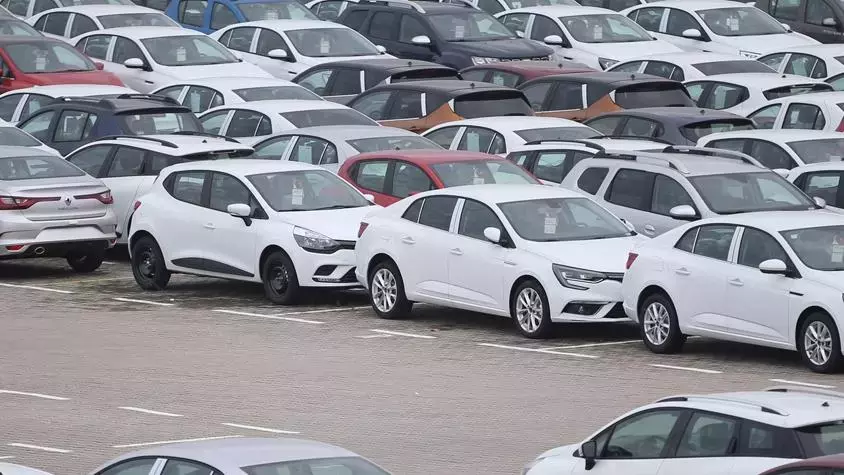Car: (356, 185, 650, 338), (127, 159, 383, 304), (623, 211, 844, 373), (522, 389, 844, 475), (558, 145, 826, 237), (66, 133, 255, 244), (338, 0, 555, 70), (0, 146, 116, 273), (67, 27, 276, 92), (493, 6, 683, 70), (16, 94, 203, 157), (619, 0, 818, 59), (338, 149, 540, 206), (89, 437, 391, 475), (210, 20, 396, 80), (348, 80, 534, 133), (253, 125, 442, 174), (519, 72, 695, 122), (197, 100, 378, 145), (292, 58, 463, 104), (506, 138, 669, 185), (0, 36, 127, 95), (421, 116, 602, 156), (697, 129, 844, 175), (682, 73, 838, 116), (585, 107, 756, 146), (147, 77, 322, 115), (24, 5, 183, 42), (603, 51, 780, 82), (0, 85, 140, 124), (165, 0, 317, 34), (748, 91, 844, 133), (458, 60, 598, 88), (754, 0, 844, 43), (757, 44, 844, 80), (785, 161, 844, 213), (0, 0, 133, 20), (0, 121, 59, 155), (761, 454, 844, 475), (464, 0, 580, 15), (0, 5, 42, 37), (304, 0, 365, 22), (573, 0, 659, 11), (0, 459, 54, 475), (823, 71, 844, 92), (132, 0, 167, 11)
